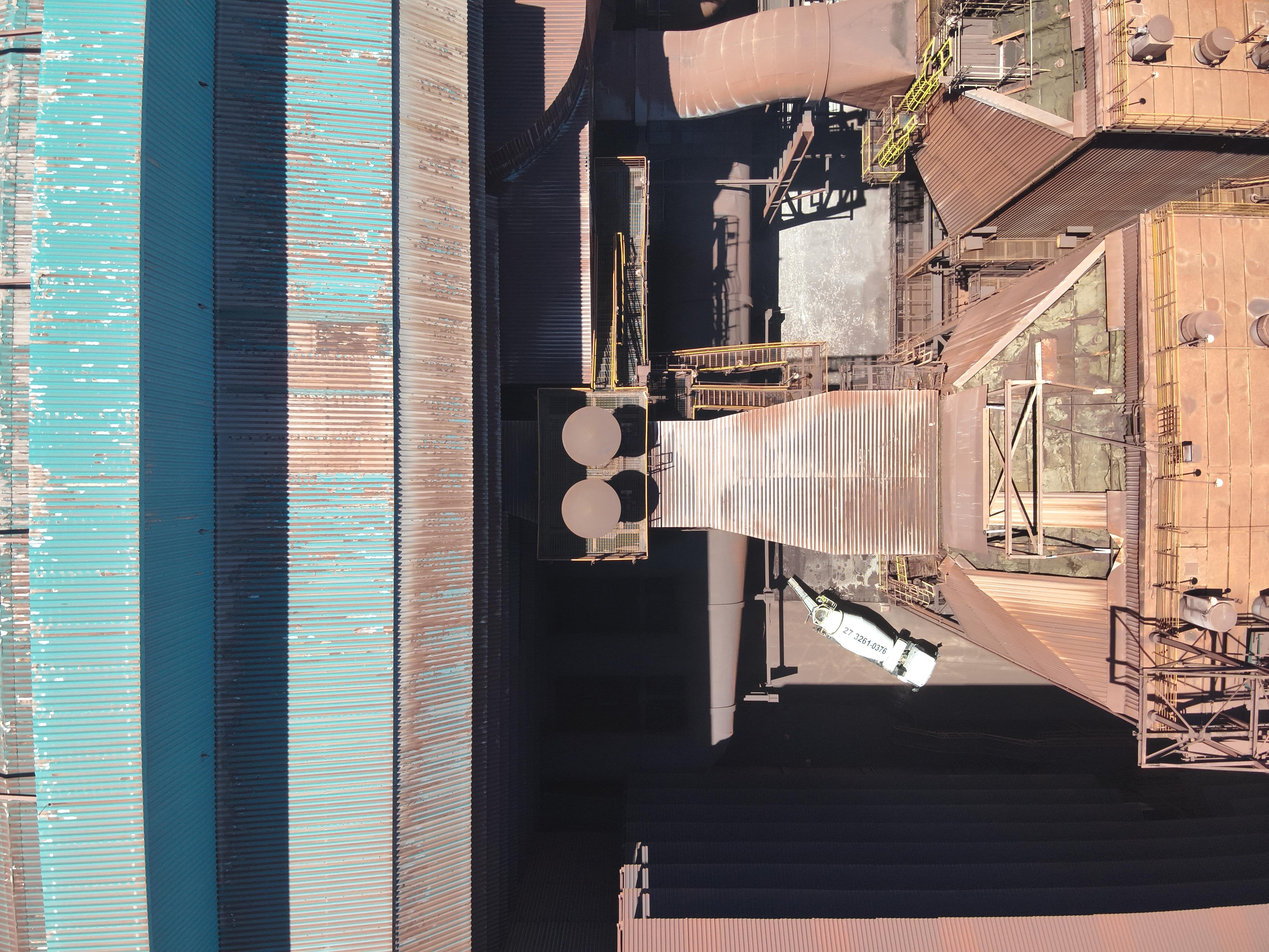Failures: (958, 239, 1126, 581), (951, 1, 1088, 123), (945, 517, 1131, 595)
